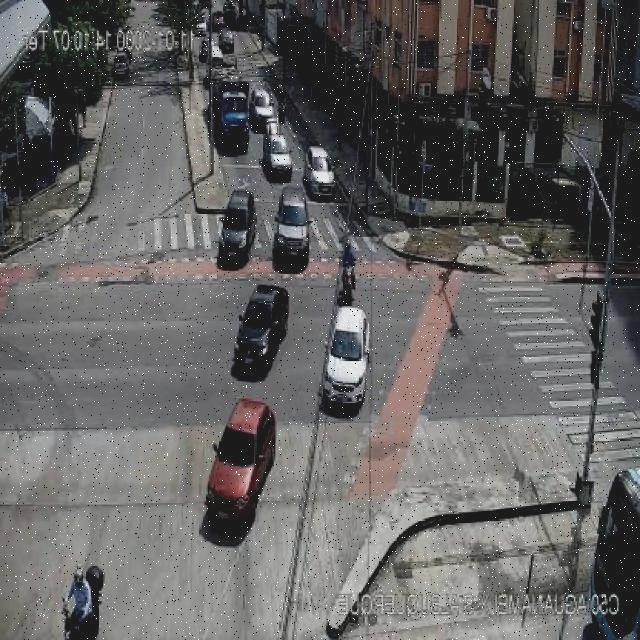Car: (201, 397, 278, 542), (232, 283, 290, 379), (320, 305, 370, 414), (217, 189, 258, 269), (272, 187, 310, 270), (304, 146, 337, 198), (261, 130, 292, 181), (250, 84, 278, 129), (200, 36, 222, 66), (112, 52, 132, 79), (218, 28, 234, 54), (212, 11, 226, 32), (195, 15, 208, 37)
Truck: (209, 67, 252, 152)
